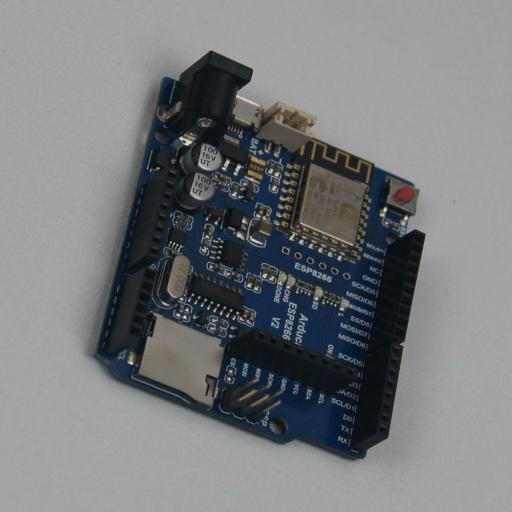Arduino Uno Camera Shield: (90, 50, 426, 460)
